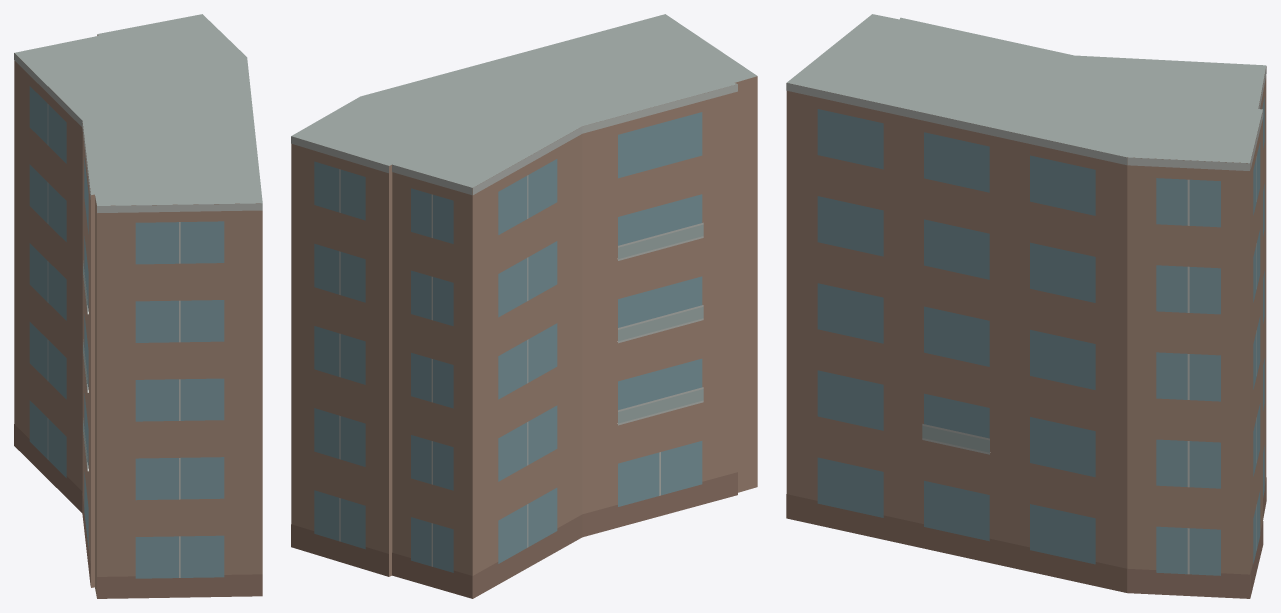
The model's file is survey-upis-32811515.glb.
3 views of the same model, side by side, from view 1: azimuth 30°, elevation 25°; view 2: azimuth 150°, elevation 25°; view 3: azimuth 270°, elevation 25° (orthographic). The views are drawn at different scales.
Parts seen in each view (by area): view 1: survey-upis-32811515.tmp; view 2: survey-upis-32811515.tmp; view 3: survey-upis-32811515.tmp.
Part boxes in pixels (<box>): survey-upis-32811515.tmp: <box>14,14,262,598</box>; survey-upis-32811515.tmp: <box>291,14,757,598</box>; survey-upis-32811515.tmp: <box>786,14,1266,598</box>.
Size of the model in its own units: 9.85 by 13.4 by 13.39.
